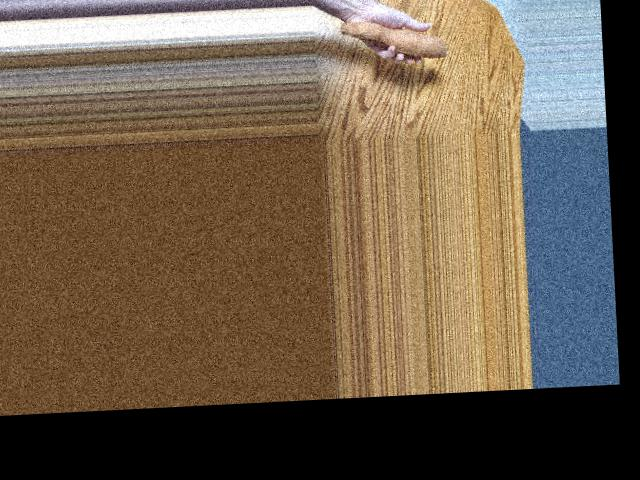sweet_potato: (329, 16, 448, 67)
